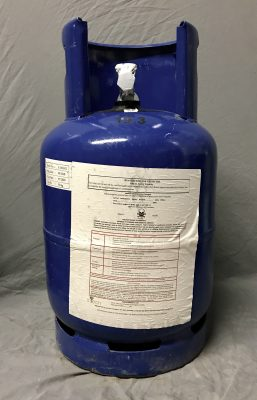blue_gas: (40, 18, 217, 381)
